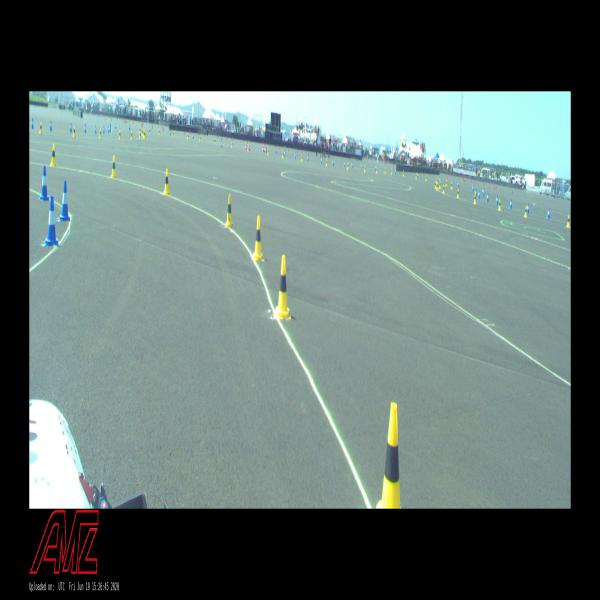blue_cone: (45, 196, 59, 245), (60, 180, 70, 221), (40, 166, 49, 200), (547, 208, 550, 219), (31, 118, 34, 129), (509, 199, 512, 210), (486, 192, 489, 202), (69, 122, 72, 132), (94, 125, 97, 134), (474, 188, 477, 197), (527, 203, 529, 214), (50, 121, 52, 131), (496, 195, 498, 205), (478, 190, 480, 199), (84, 124, 86, 133), (482, 189, 484, 196), (332, 159, 334, 166), (472, 185, 474, 191), (457, 180, 459, 186), (351, 162, 353, 168), (294, 153, 296, 159), (103, 124, 104, 134), (344, 160, 345, 168), (108, 125, 109, 133), (110, 124, 111, 132), (321, 157, 322, 164), (284, 150, 285, 157), (482, 188, 483, 194), (307, 155, 308, 161), (115, 123, 116, 129), (417, 173, 418, 178), (395, 168, 396, 173), (375, 165, 376, 170), (361, 163, 362, 168), (264, 148, 265, 152)
orange_cone: (262, 143, 264, 152), (245, 141, 247, 150), (265, 144, 267, 152), (249, 141, 250, 151)
yellow_cone: (376, 402, 402, 509), (276, 255, 291, 319), (253, 215, 263, 260), (224, 194, 233, 227), (163, 168, 170, 194), (50, 144, 57, 167), (111, 155, 117, 178), (566, 215, 570, 228), (39, 121, 42, 134), (524, 205, 527, 217), (498, 199, 501, 211), (99, 128, 102, 138), (457, 188, 459, 199), (73, 126, 75, 137), (474, 193, 476, 204), (119, 130, 121, 140), (442, 184, 444, 193), (130, 131, 132, 140), (450, 181, 452, 189), (436, 182, 438, 190), (139, 131, 141, 139), (439, 182, 441, 189), (445, 179, 447, 186), (384, 167, 386, 174), (282, 152, 284, 159), (267, 148, 269, 155), (425, 175, 427, 181), (415, 173, 417, 179), (247, 144, 249, 150), (231, 142, 233, 148), (214, 138, 216, 144), (172, 131, 174, 137), (199, 136, 201, 141), (187, 134, 189, 139), (435, 180, 436, 188), (301, 154, 302, 162), (144, 130, 145, 138), (139, 127, 141, 131), (142, 128, 143, 136), (403, 169, 404, 176), (391, 168, 392, 175), (364, 165, 365, 172), (347, 163, 348, 170), (326, 159, 327, 166), (376, 167, 377, 173), (159, 130, 160, 135)
